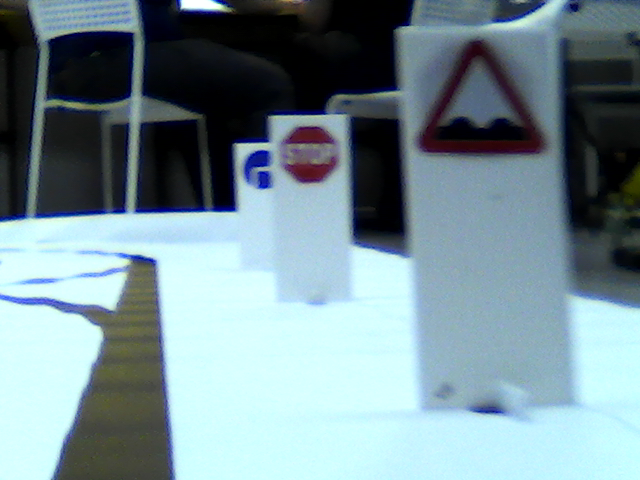Nerov: (419, 38, 550, 158)
Stop: (281, 125, 336, 183)
